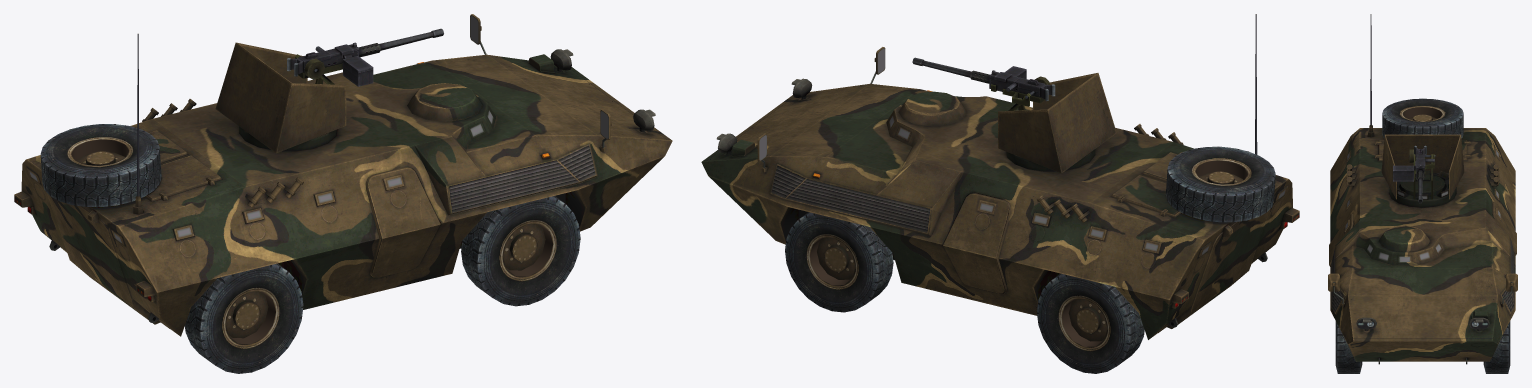
Rendered from south_korean_km900_apc.glb.
The picture shows the model from 3 angles, left to right: view 1: azimuth 30°, elevation 25°; view 2: azimuth 150°, elevation 25°; view 3: azimuth 270°, elevation 25°; orthographic projection. The views are drawn at different scales.
Parts seen in each view (by area): view 1: Object_2, Object_3; view 2: Object_2, Object_3; view 3: Object_2, Object_3.
Boxes of the visible parts, x1,y1,x2,y2 form: Object_2: (21,14,672,373); Object_3: (14,53,655,301); Object_2: (701,14,1292,373); Object_3: (718,58,1299,308); Object_2: (1328,14,1517,373); Object_3: (1332,167,1499,328).
Size of the model in its own units: 913 by 522 by 383.
1 material, 1 textured.
